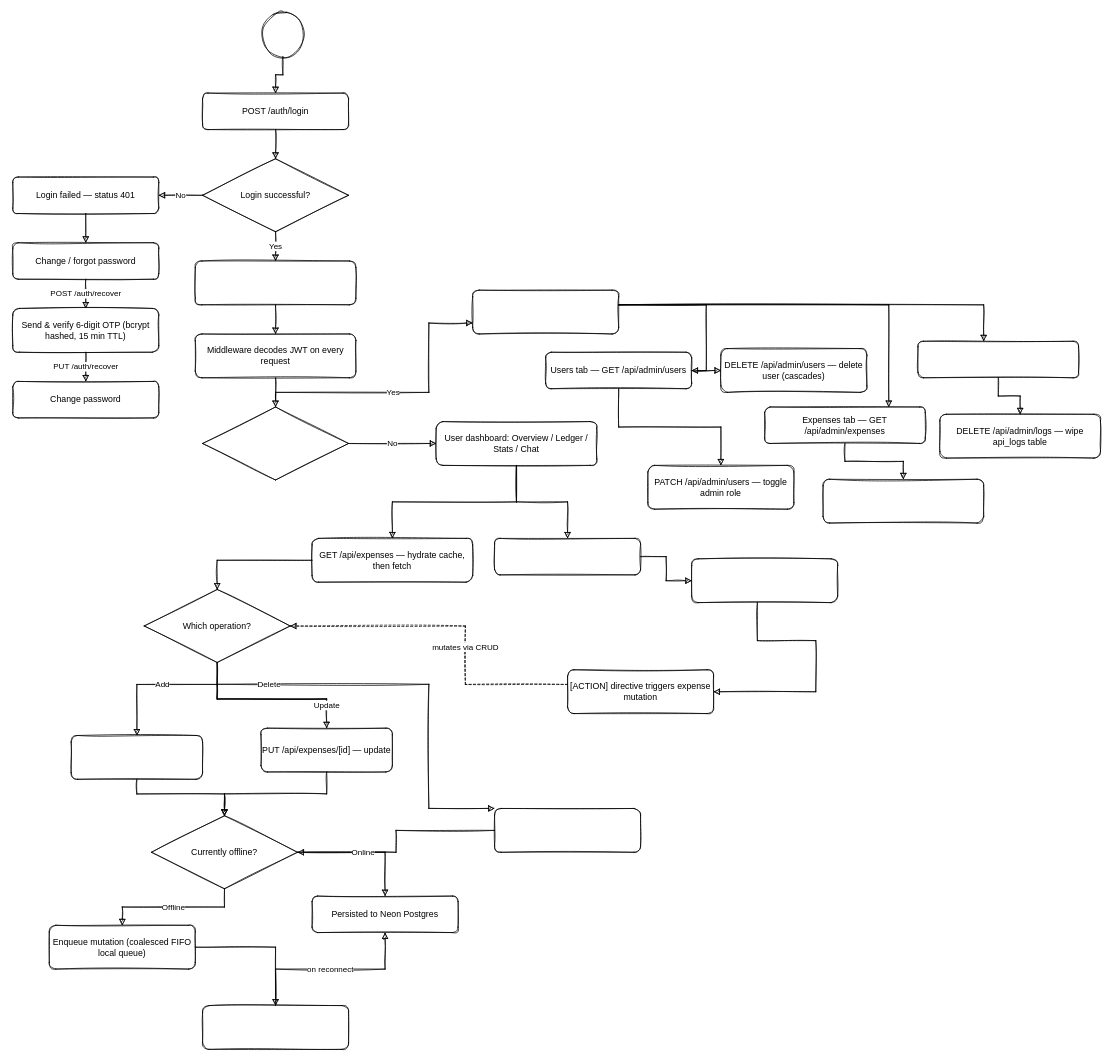
The diagram is 1113 pixels wide and 1062 high, and some of its shapes have lost their labels. Here are the shapes that lost their labels. From the top down, the box of each, then its label:
(195, 260, 356, 305): Generate JWT (HS256, 30d) — set auth_token cookie
(472, 289, 619, 334): Admin console
(917, 341, 1079, 378): Logs tab — GET /api/admin/logs (auto-refresh 10s)
(202, 406, 349, 480): isAdmin flag true?
(822, 479, 984, 523): DELETE /api/admin/expenses — remove any expense
(494, 538, 641, 575): Chat tab: POST /api/chat
(691, 558, 838, 603): AI cascade: Gemini to DeepSeek to Groq to OpenAI
(70, 735, 203, 779): POST /api/expenses — add
(494, 808, 641, 852): DELETE /api/expenses/[id] — delete
(202, 1005, 349, 1049): Replay FIFO on reconnect (stop on 5xx, drop on 404)
